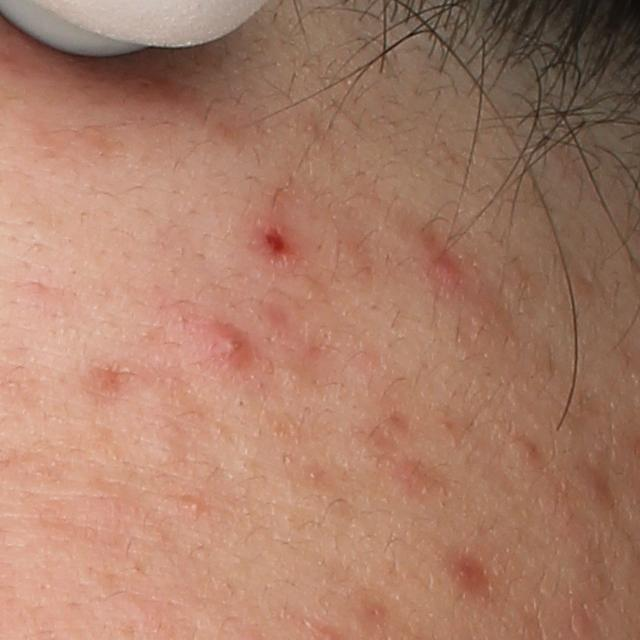comedo: (237, 398, 249, 411)
papule: (252, 216, 297, 265), (206, 325, 249, 374), (428, 257, 467, 296), (508, 436, 540, 463)
